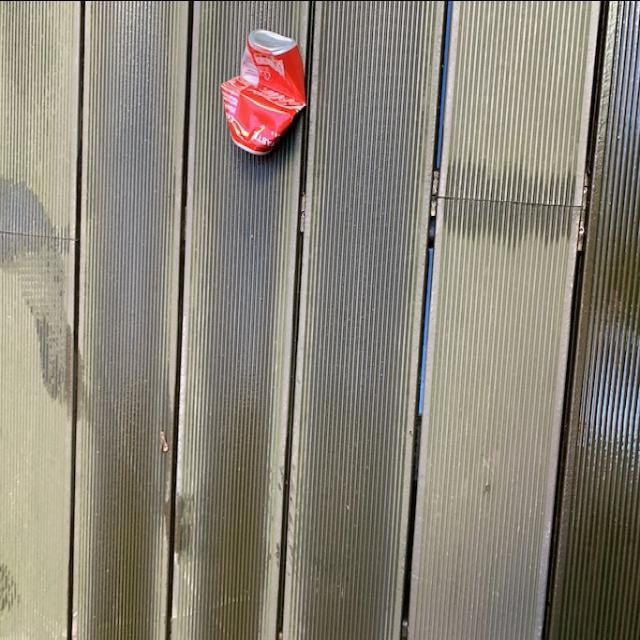Aluminum Can: (218, 26, 306, 164)
